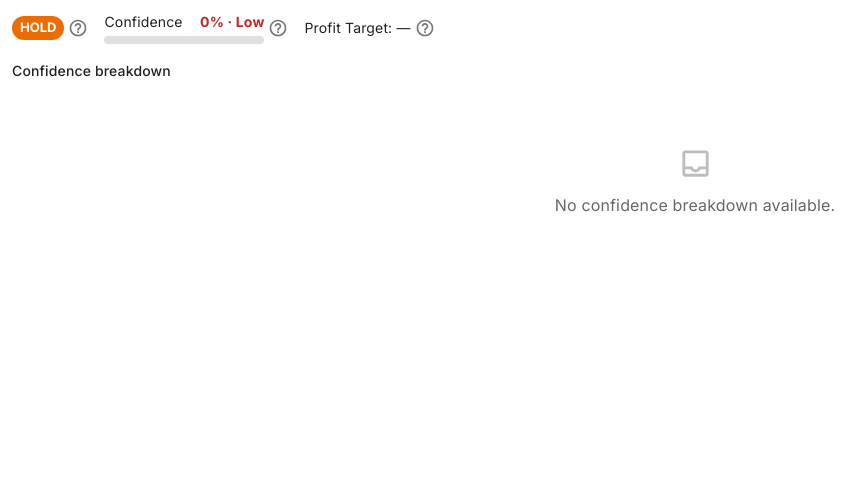
Test: SignalSummary › clicking a directional-tide HOLD signal missing only Wave names Wave specifically, not Tide
The image size is (851, 496).
Click the button with aria-label "Why HOLD?".
click(38, 28)  # box [12,16,64,40]
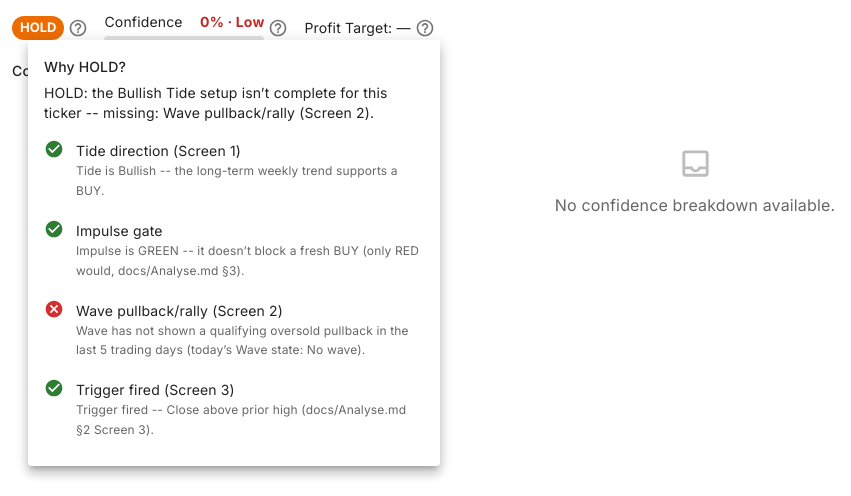
Expected: the text "missing: Wave pullback/rally (Screen 2)" is shown, [44,84,388,121]
